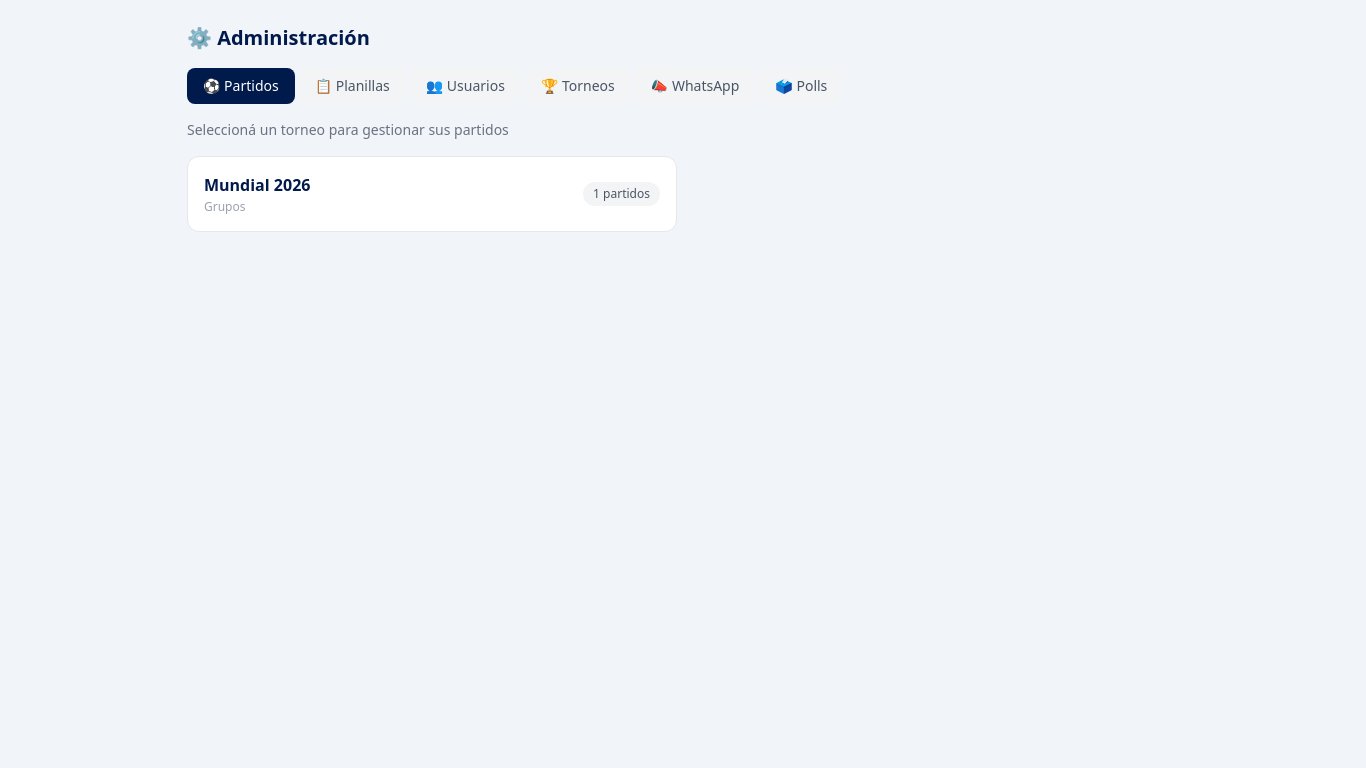
it: Admin — PartidosTab › abre y cierra modal "Nuevo partido"
Click the text "Mundial 2026".
click(257, 185)  # box [204,173,310,197]
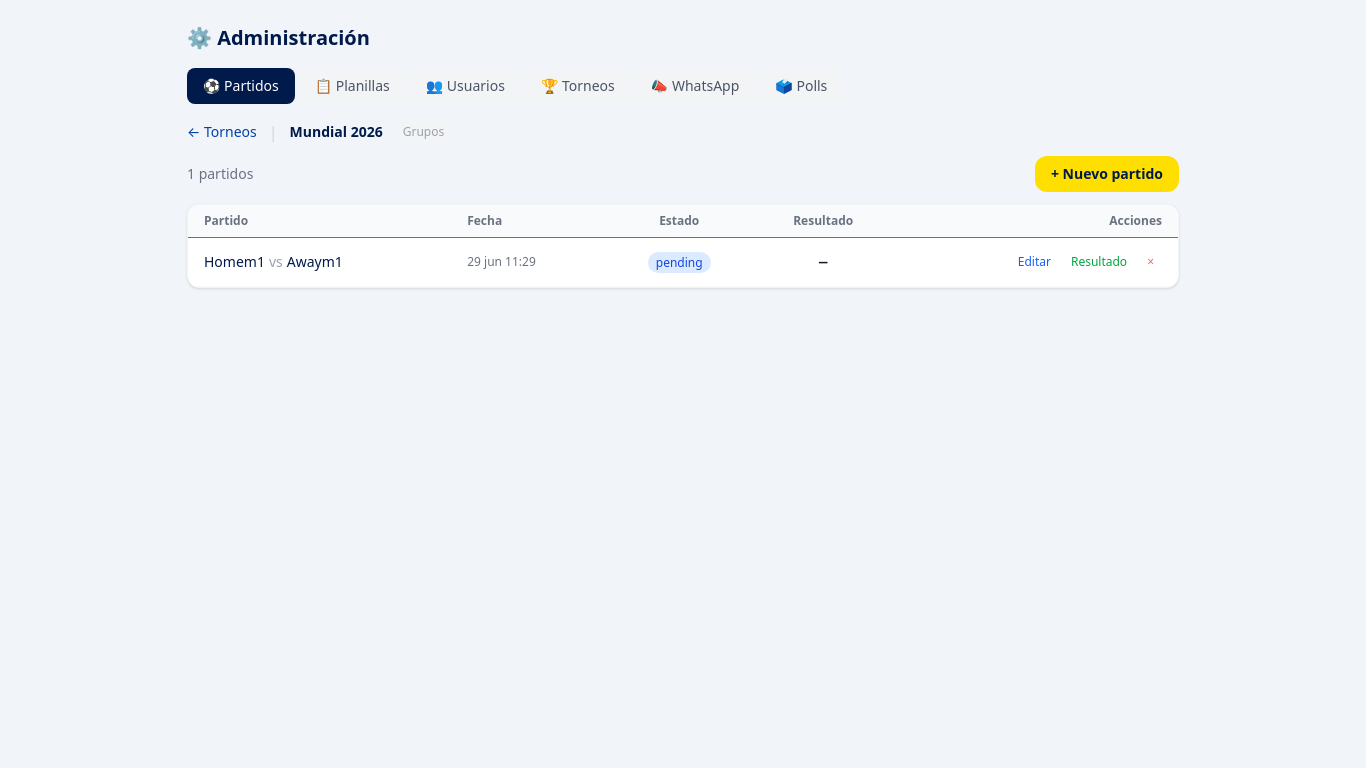
Click the button "+ Nuevo partido".
click(1107, 174)  # box [1035,156,1179,192]
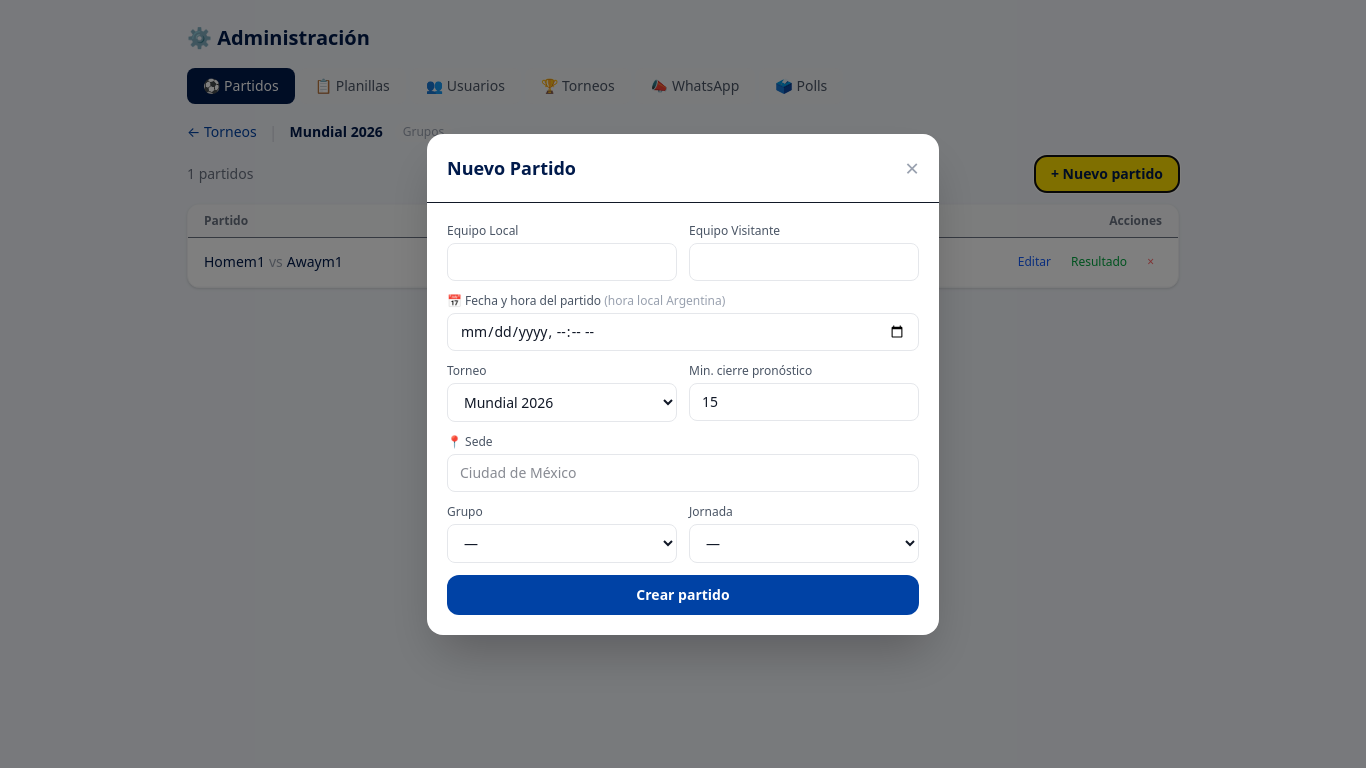
expect the heading "Nuevo Partido" is shown: met, box [447,154,576,182]
expect the button "Crear partido" is shown: met, box [447,574,919,614]
